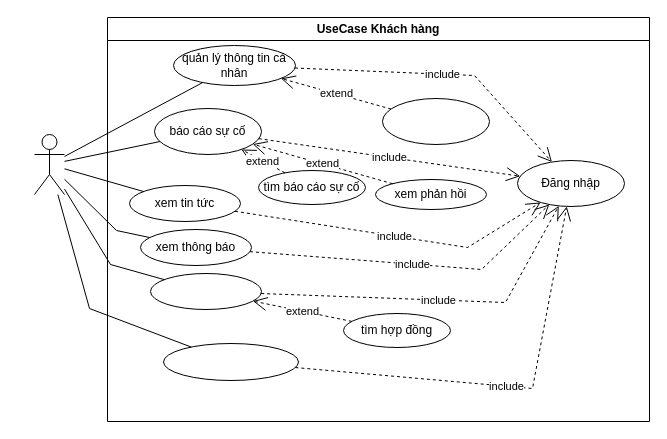
The diagram is 667 pixels wide and 439 high, and some of its shapes have lost their labels. The shapes that lost their labels are listed below. From the top down, each one's centre as x and y in pixels, then its label:
At point (436, 121): "cập nhật thông tin cá nhân".
At point (49, 164): "Khách hàng".
At point (206, 291): "xem hợp đồng".
At point (230, 361): "Đăng xuất".
